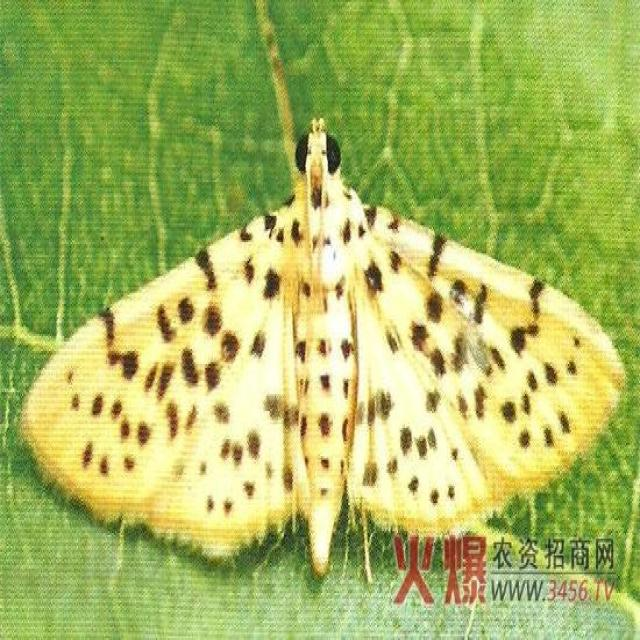peach borer: (12, 114, 631, 597)
